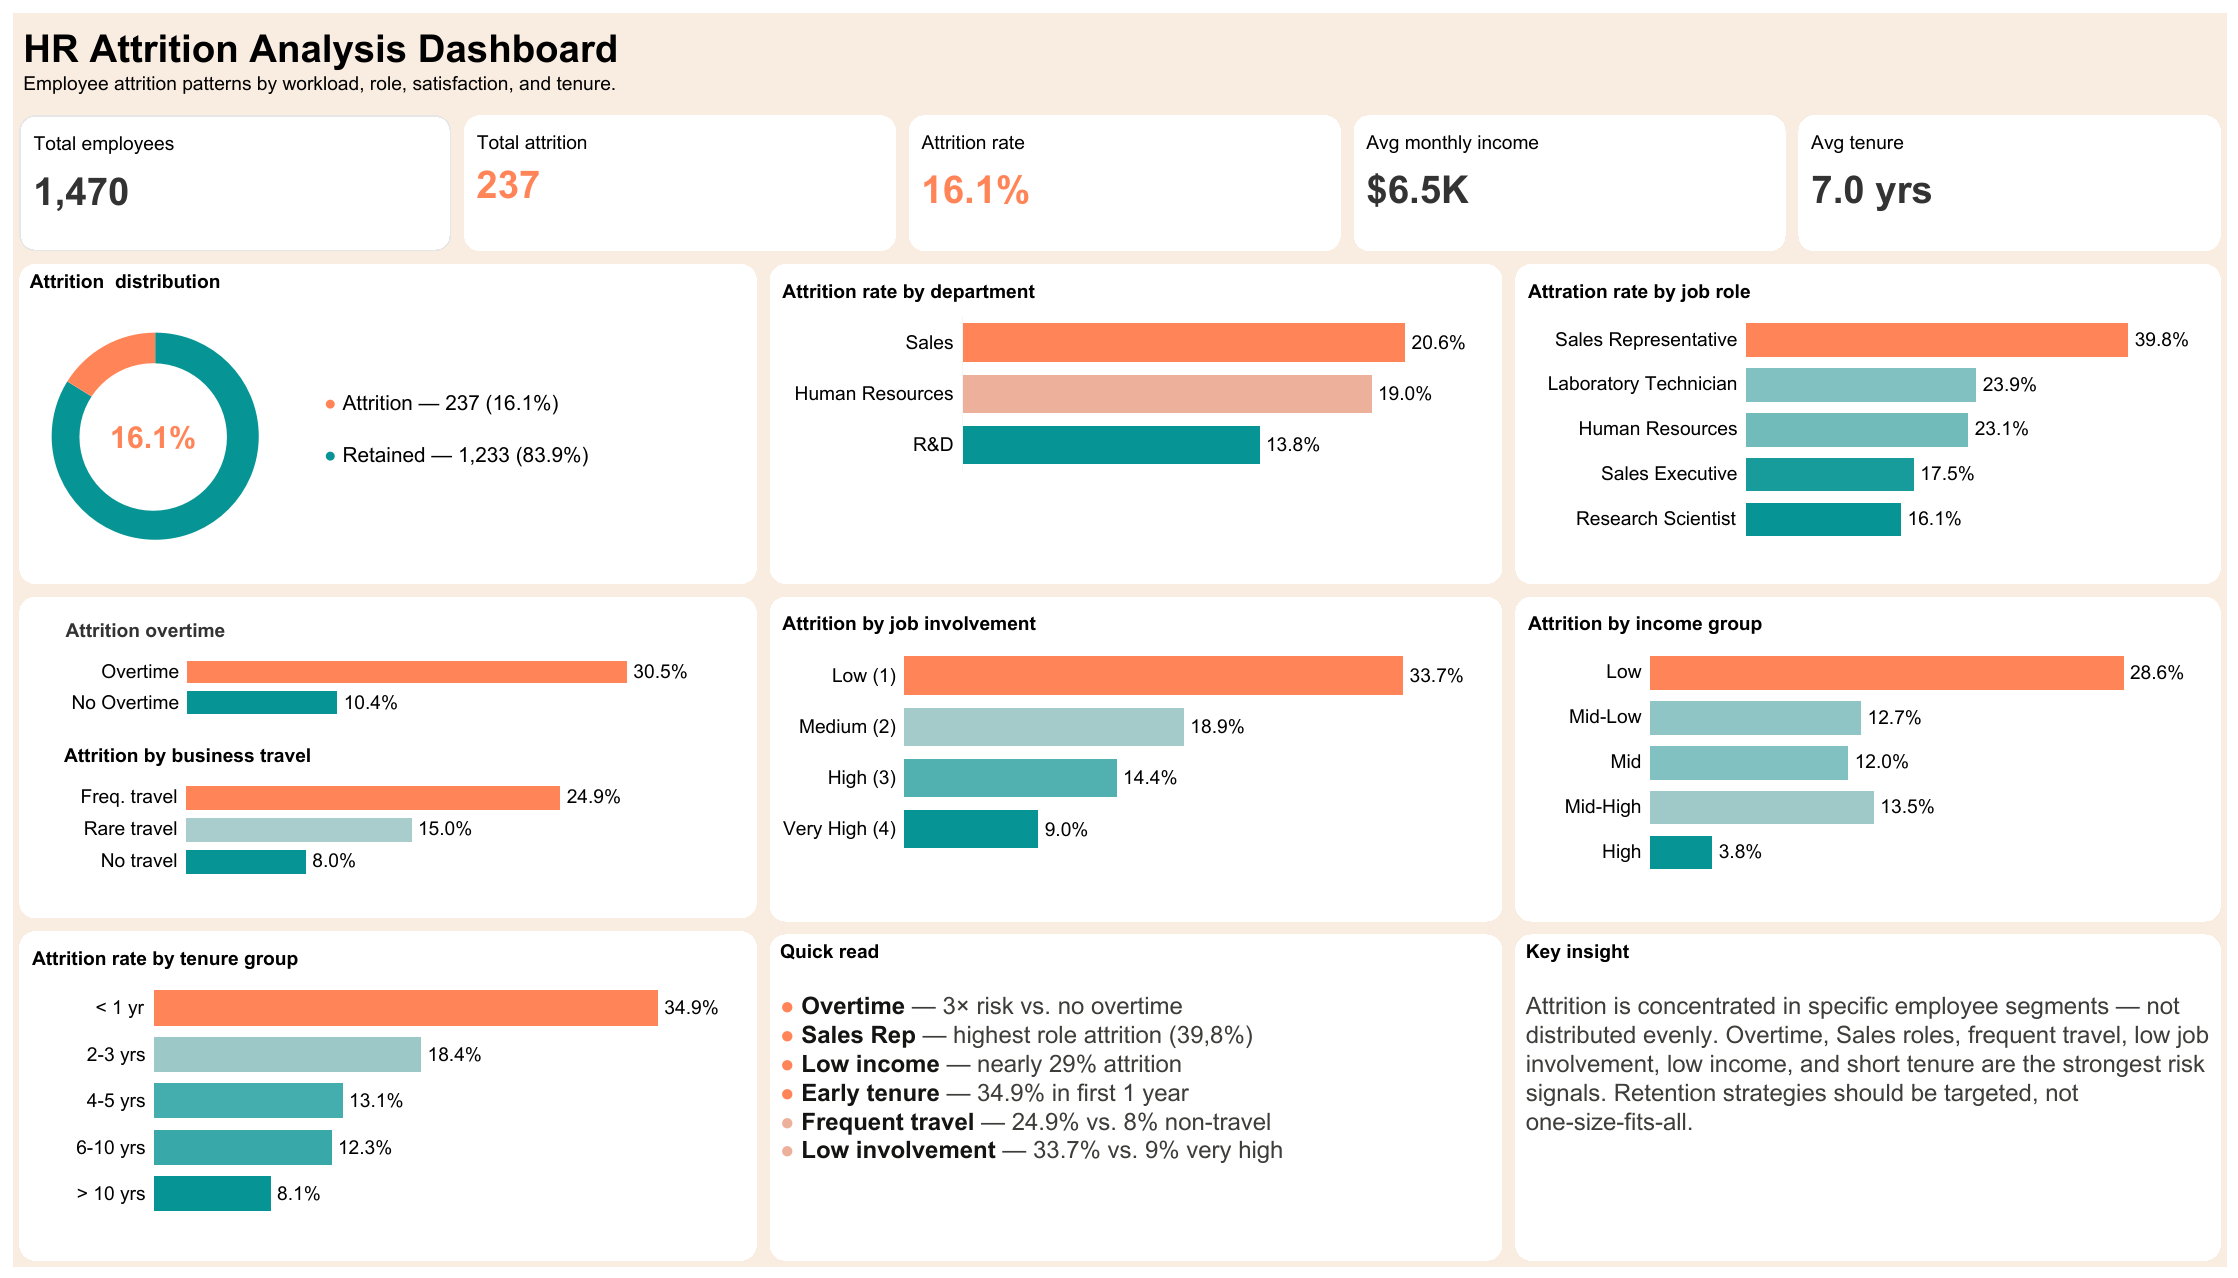

Layout of this report page (visuals, bound fields, positions):
{"tool":"tableau","page":{"name":"HR Attrition Dashboard","canvas":[1400,800],"ordinal":0},"visuals":[{"type":"text","box":[8,8,1384,60.3]},{"type":"worksheet","title":"KPI - Total Employees","mark":"Automatic","box":[8,68.3,278,92.2]},{"type":"worksheet","title":"KPI - Total Attrition","mark":"Automatic","box":[286,68.3,278,92.2]},{"type":"worksheet","title":"KPI - Attrition Rate","mark":"Automatic","box":[564,68.3,278,92.2]},{"type":"worksheet","title":"KPI - Avg Income","mark":"Automatic","box":[842,68.3,278,92.2]},{"type":"worksheet","title":"KPI - Avg Tenure","mark":"Automatic","box":[1120,68.3,272,92.2]},{"type":"text","box":[8,160.5,469,208.5]},{"type":"worksheet","title":"Attrition by Department","mark":"Automatic","rows":["Department"],"cols":["Calculation_0559934733836288"],"box":[477,160.5,466,208.5]},{"type":"worksheet","title":"Attrition by Job Role","mark":"Automatic","rows":["JobRole"],"cols":["Calculation_0559934733836288"],"box":[943,160.5,449,208.5]},{"type":"worksheet","title":"Attrition Distribution Center","mark":"Pie","box":[19,193,181,163]},{"type":"worksheet","title":"Attrition Distribution","mark":"Pie","box":[20,193,205,161]},{"type":"text","box":[180,219,283,101]},{"type":"text","box":[8,369,469,209]},{"type":"worksheet","title":"Attrition by Job Involvement","mark":"Automatic","rows":["JobInvolvement"],"cols":["Calculation_0559934733836288"],"box":[477,369,466,211.5]},{"type":"worksheet","title":"Attrition by Income Group","mark":"Automatic","rows":["IncomeGroup"],"cols":["Calculation_0559934733836288"],"box":[943,369,449,211.5]},{"type":"worksheet","title":"Attrition by Overtime","mark":"Automatic","rows":["OverTime"],"cols":["Calculation_0559934733836288"],"box":[37,381,411,83]},{"type":"worksheet","title":"Attrition by Business Travel","mark":"Automatic","rows":["BusinessTravel"],"cols":["Calculation_0559934733836288"],"box":[36,459,368,104]},{"type":"worksheet","title":"Attrition by Tenure Group","mark":"Automatic","rows":["TenureGroup"],"cols":["Calculation_0559934733836288"],"box":[8,578,469,214]},{"type":"text","box":[477,580.5,466,211.5]},{"type":"text","box":[943,580.5,449,211.5]}]}

Visuals, with their boxes in screenshot pixels (x1, y1, x2, y2), scaled from the page's 1400x800 canvas onto the 2238x1278 screenshot:
text: Rect(13, 13, 2225, 109)
"KPI - Total Employees" worksheet: Rect(13, 109, 457, 256)
"KPI - Total Attrition" worksheet: Rect(457, 109, 902, 256)
"KPI - Attrition Rate" worksheet: Rect(902, 109, 1346, 256)
"KPI - Avg Income" worksheet: Rect(1346, 109, 1790, 256)
"KPI - Avg Tenure" worksheet: Rect(1790, 109, 2225, 256)
text: Rect(13, 256, 763, 589)
"Attrition by Department" worksheet: Rect(763, 256, 1507, 589)
"Attrition by Job Role" worksheet: Rect(1507, 256, 2225, 589)
"Attrition Distribution Center" worksheet (Pie marks): Rect(30, 308, 320, 569)
"Attrition Distribution" worksheet (Pie marks): Rect(32, 308, 360, 566)
text: Rect(288, 350, 740, 511)
text: Rect(13, 589, 763, 923)
"Attrition by Job Involvement" worksheet: Rect(763, 589, 1507, 927)
"Attrition by Income Group" worksheet: Rect(1507, 589, 2225, 927)
"Attrition by Overtime" worksheet: Rect(59, 609, 716, 741)
"Attrition by Business Travel" worksheet: Rect(58, 733, 646, 899)
"Attrition by Tenure Group" worksheet: Rect(13, 923, 763, 1265)
text: Rect(763, 927, 1507, 1265)
text: Rect(1507, 927, 2225, 1265)
